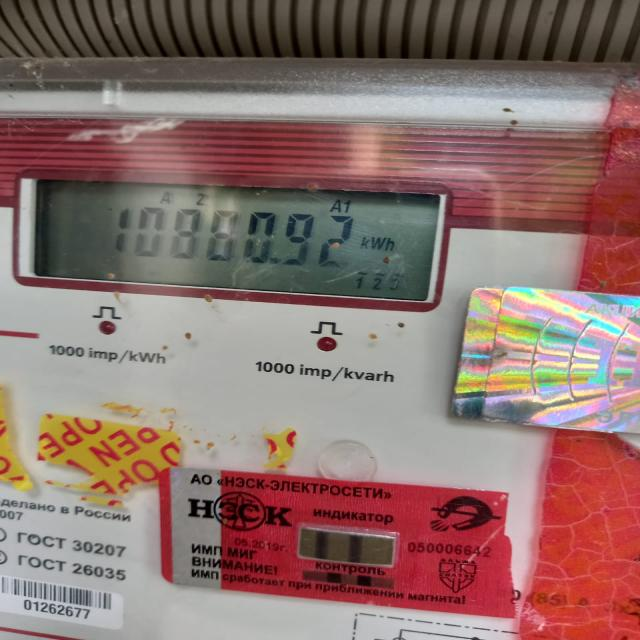Display: (19, 170, 452, 313)
seal_imp: (159, 464, 523, 620)
